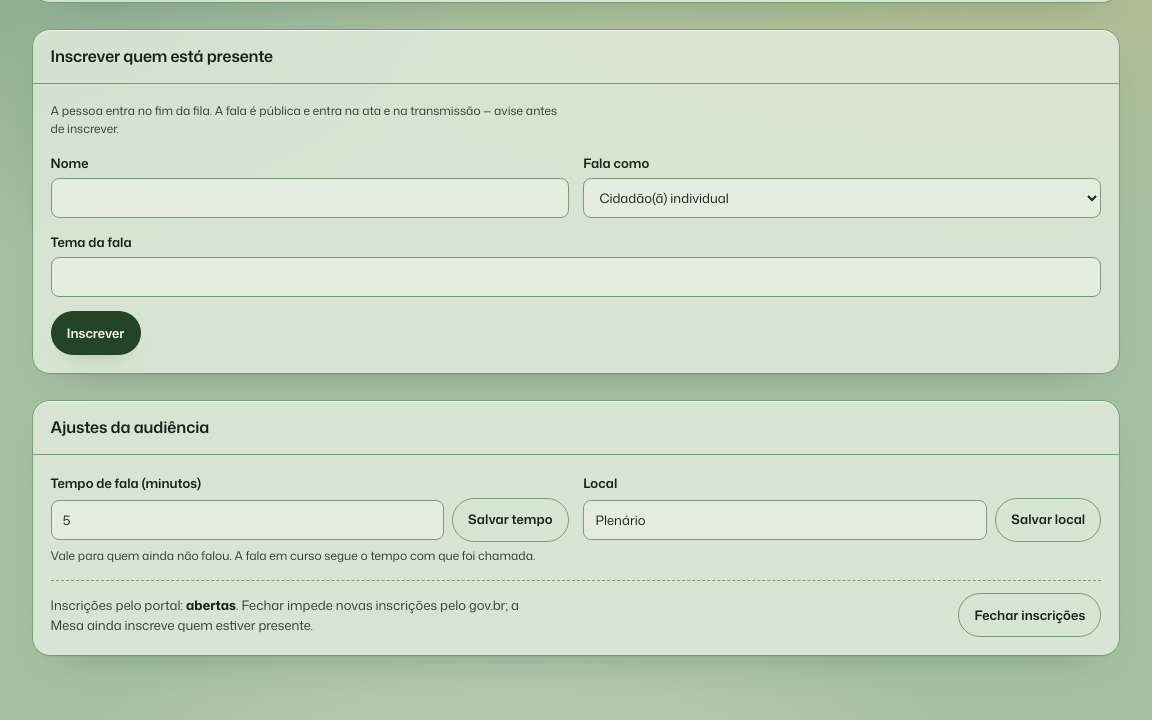
Test case: Mesa da audiência pública › fechar as inscrições do portal e ajustar o tempo: PATCH só com o que muda
The image size is (1152, 720).
(page scrolled)
Click the button "Fechar inscrições" at (1030, 615), box x1=958 y1=593 x2=1102 y2=637
(page scrolled)
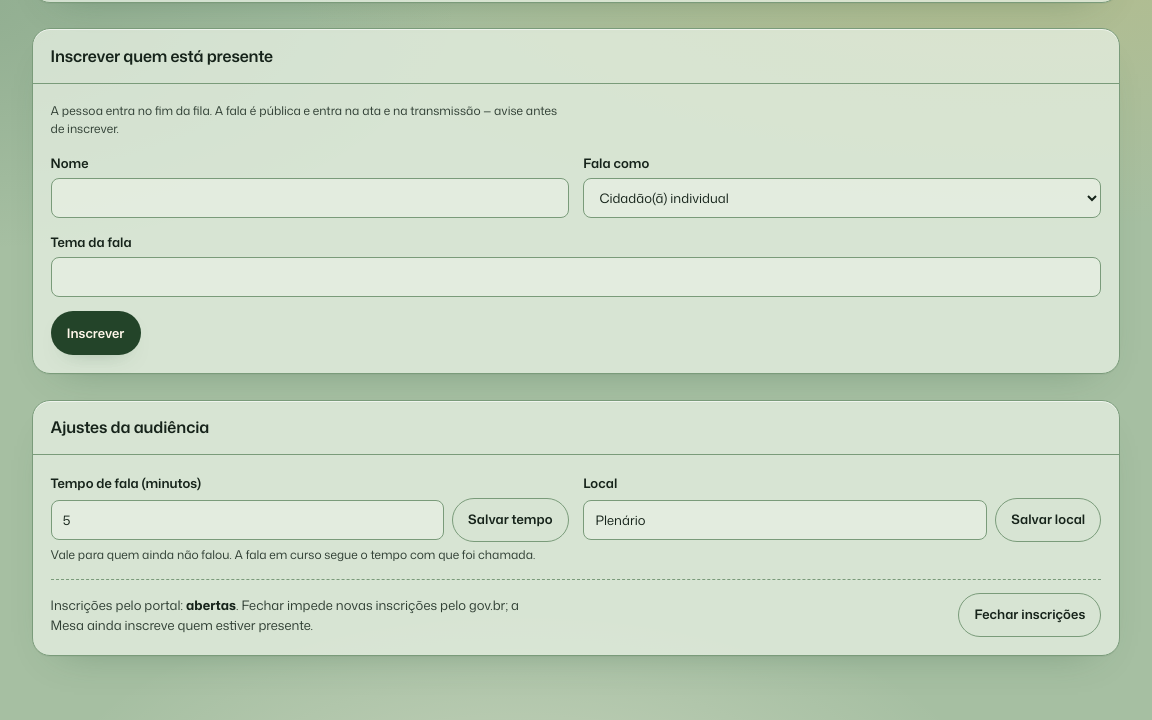
Replace the text in the number field labelled "Tempo de fala (minutos)" with "40" at (247, 520), box x1=51 y1=500 x2=444 y2=540
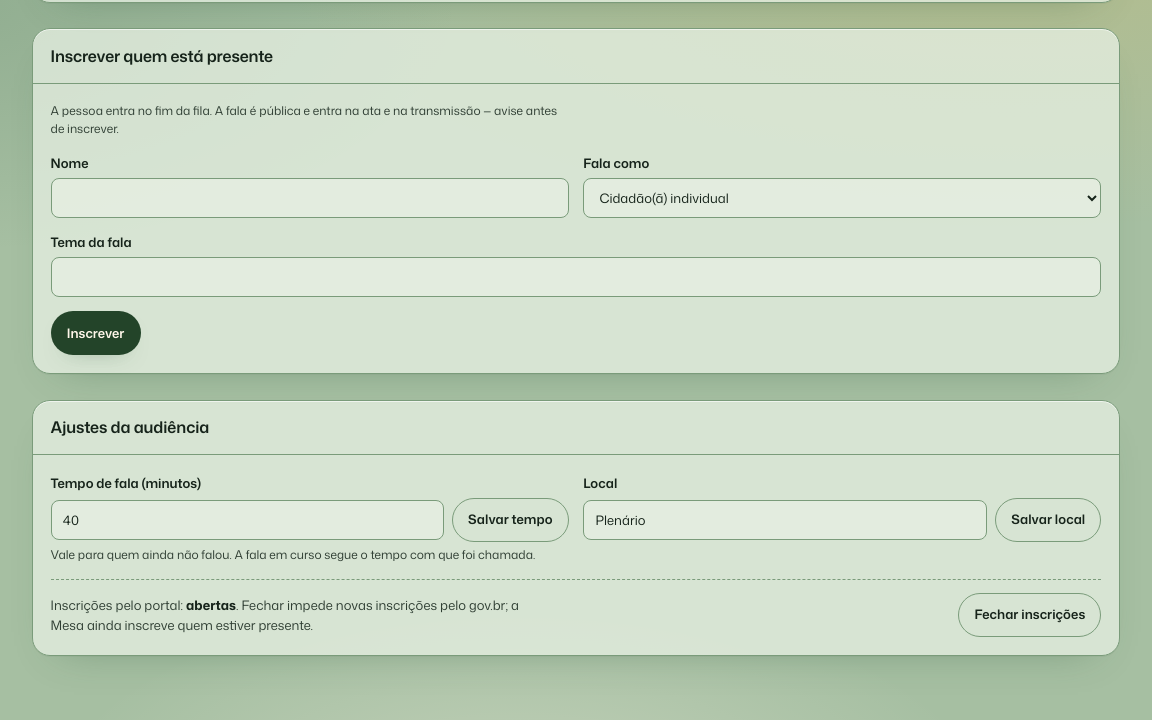
Click the button "Salvar tempo" at (510, 520), box x1=452 y1=498 x2=569 y2=542
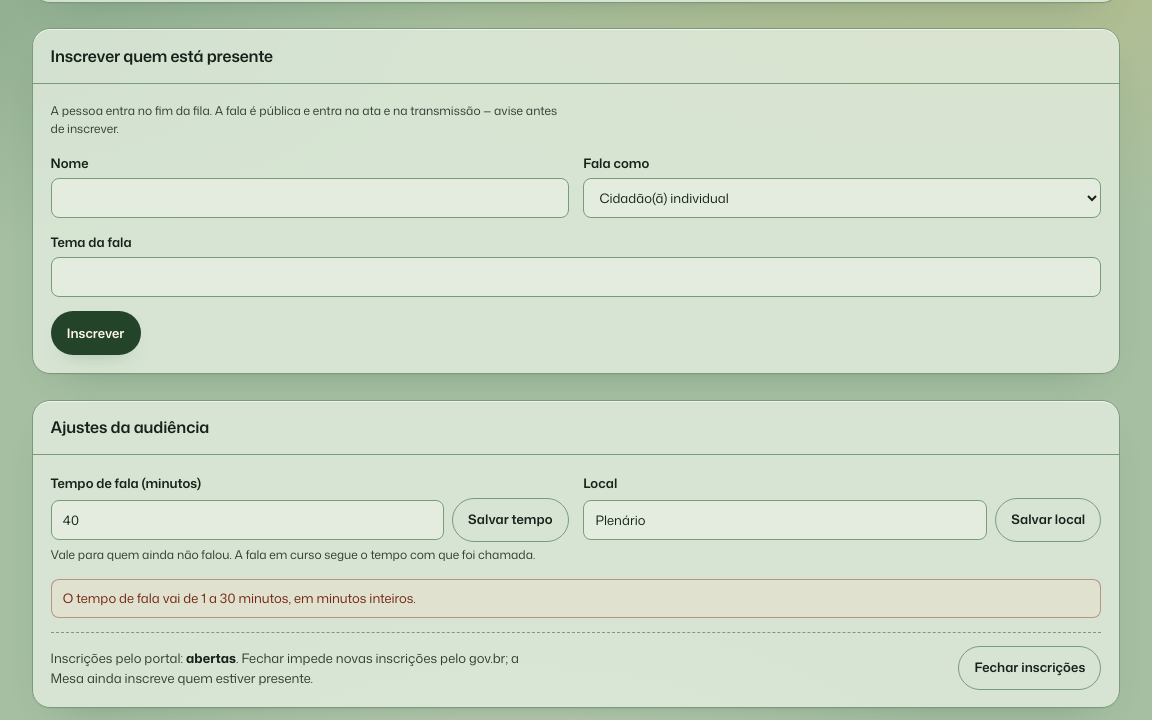
Check: the message shows "1 a 30 minutos", box x1=63 y1=589 x2=416 y2=607
Replace the text in the number field labelled "Tempo de fala (minutos)" with "3" at (247, 520), box x1=51 y1=500 x2=444 y2=540
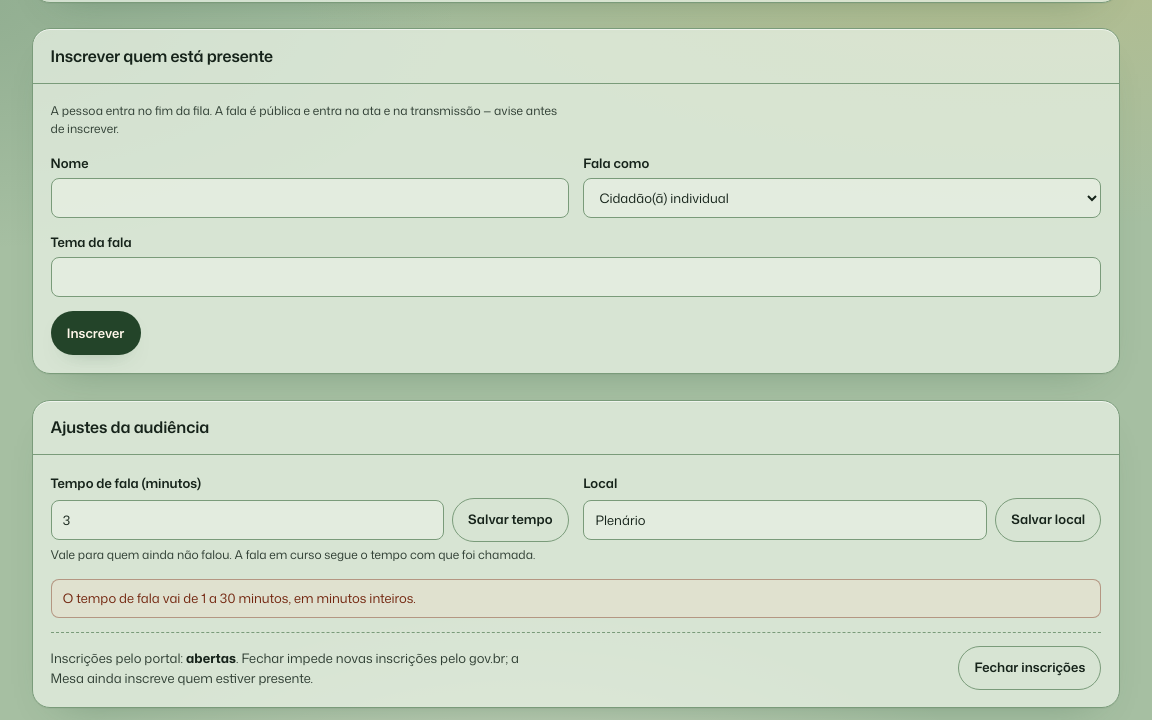
Click the button "Salvar tempo" at (510, 520), box x1=452 y1=498 x2=569 y2=542
(page scrolled)
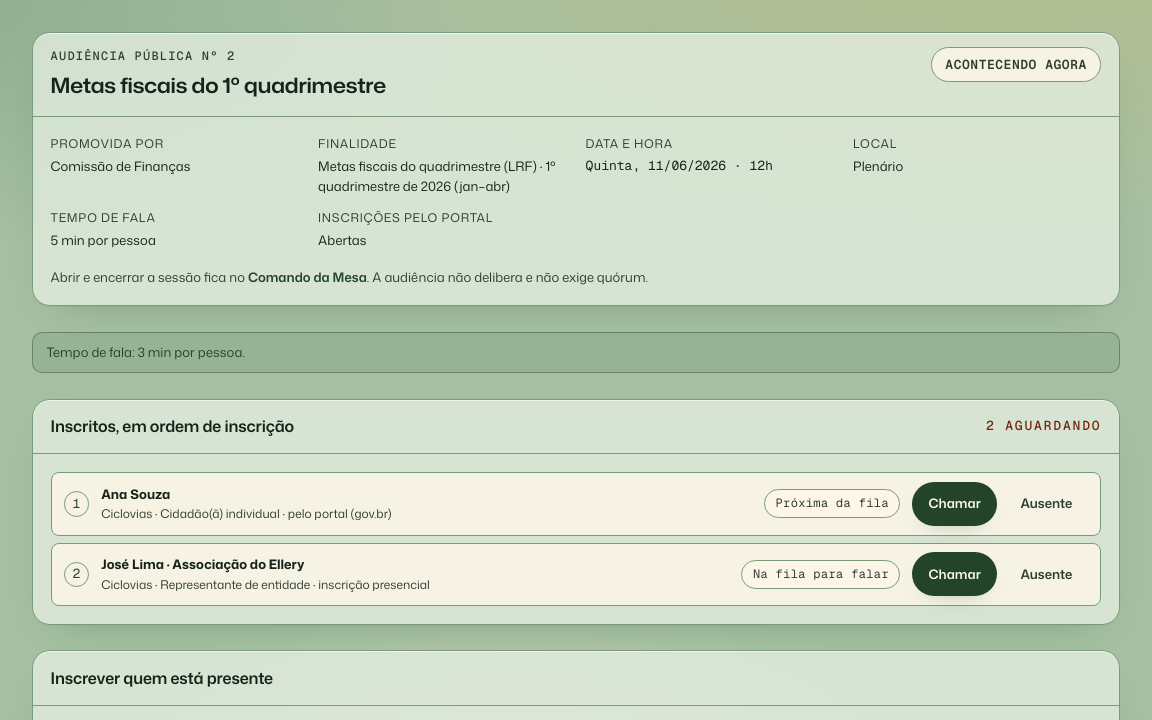
Check: the text "Tempo de fala: 3 min por pessoa." is shown, box x1=32 y1=332 x2=1120 y2=373
